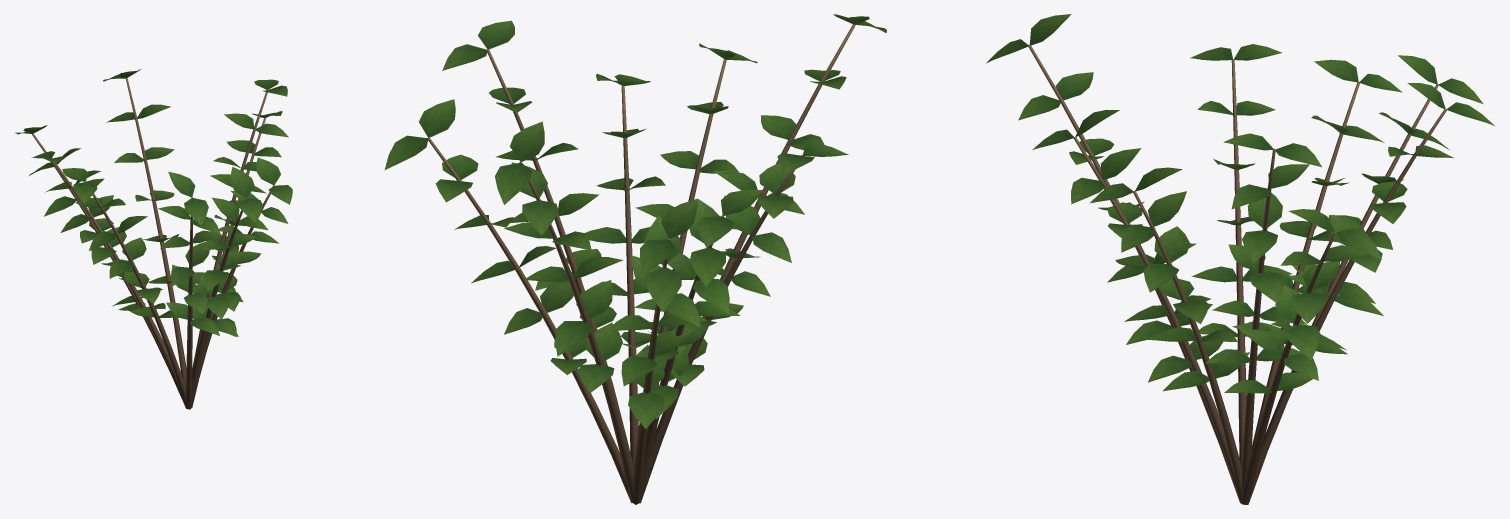
Rendered from hazel.glb.
3 renders of one model, left to right at view 1: azimuth 30°, elevation 25°; view 2: azimuth 150°, elevation 25°; view 3: azimuth 270°, elevation 25°, orthographic. The views are drawn at different scales.
Visible parts, largest first — view 1: hazel; view 2: hazel; view 3: hazel.
Boxes of the visible parts, x1,y1,x2,y2 form: hazel: [15, 69, 292, 409]; hazel: [384, 14, 886, 504]; hazel: [986, 14, 1494, 504].
Bounding box in the file's own units: 1.43 × 1.65 × 1.77.
Materials: 1 (1 with a texture image).
